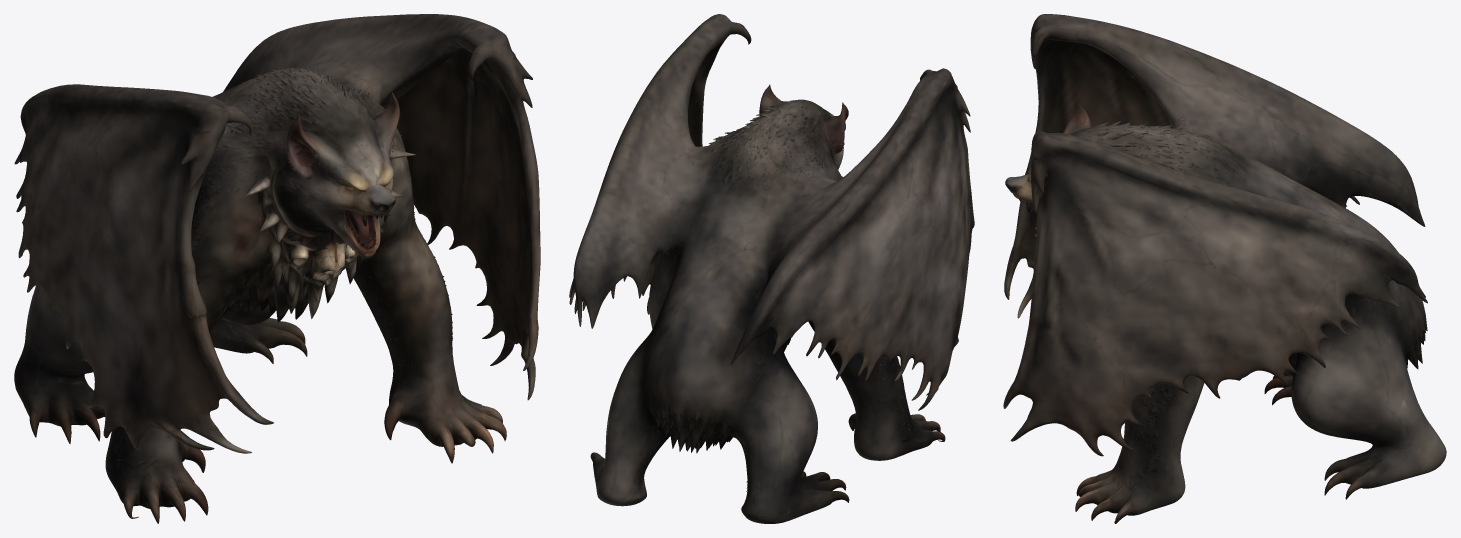
Rendered from giant_bat.glb.
3 renders of one model, left to right at view 1: azimuth 30°, elevation 25°; view 2: azimuth 150°, elevation 25°; view 3: azimuth 270°, elevation 25°, orthographic. The views are drawn at different scales.
Visible parts, largest first — view 1: material; view 2: material; view 3: material.
Boxes of the visible parts, x1,y1,x2,y2 form: material: (14, 14, 540, 523); material: (569, 14, 974, 523); material: (1003, 14, 1446, 523).
Size of the model in its own units: 0.7329 by 0.7964 by 0.8564.
Materials: 1 (1 with a texture image).
